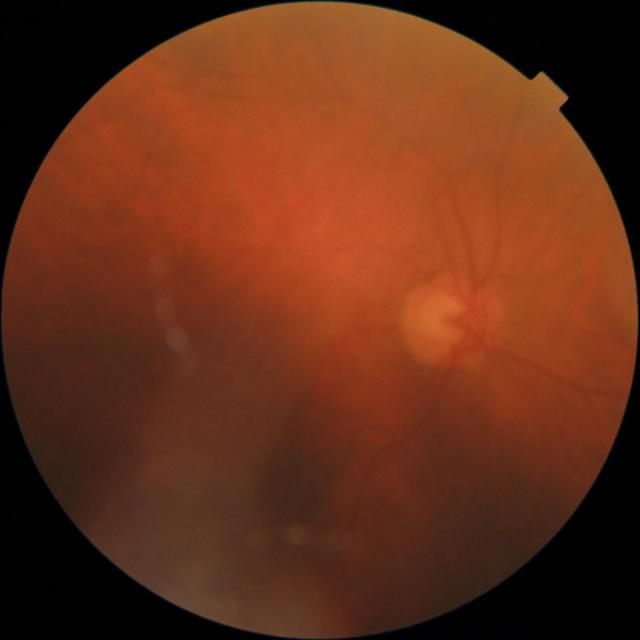OC: (423, 294, 468, 345)
OD: (400, 274, 500, 371)
